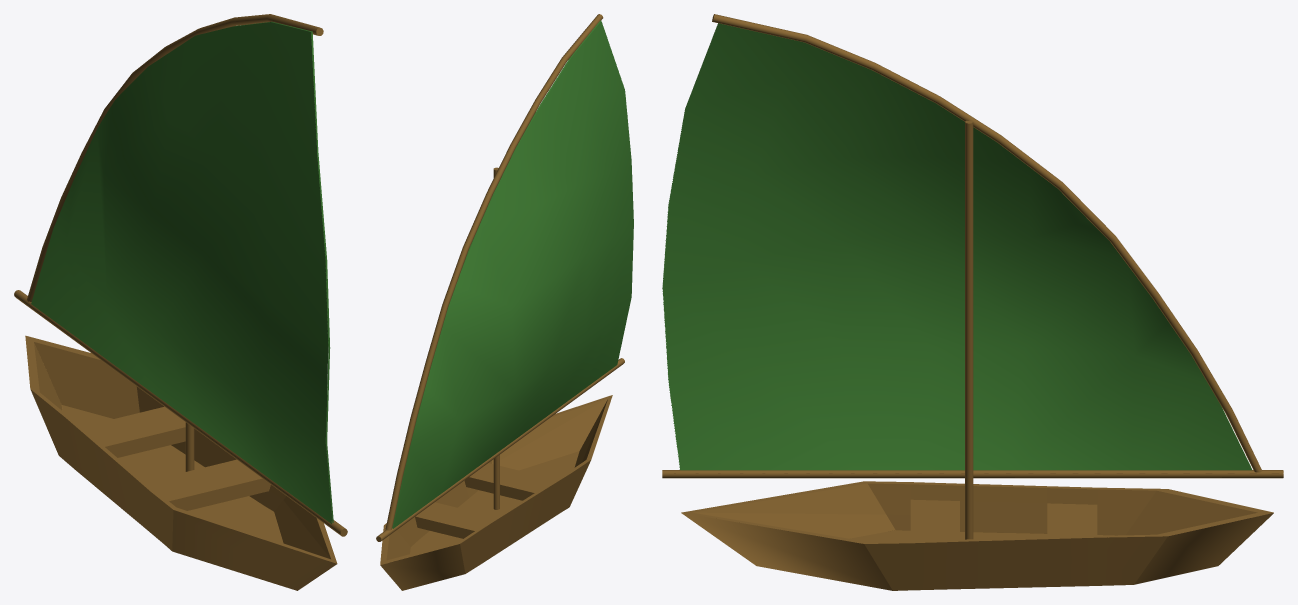
File: Model Textured_Scout.fbx
The picture shows the model from 3 angles, left to right: view 1: azimuth 30°, elevation 25°; view 2: azimuth 150°, elevation 25°; view 3: azimuth 270°, elevation 25°; orthographic projection. The views are drawn at different scales.
Visible parts, largest first — view 1: Scout 003, Scout Unit; view 2: Scout 003, Scout Unit; view 3: Scout 003, Scout Unit.
Boxes of the visible parts, bbox=[...] form: Scout 003: bbox=[31, 21, 333, 523]; Scout Unit: bbox=[14, 14, 347, 590]; Scout 003: bbox=[392, 20, 633, 528]; Scout Unit: bbox=[376, 14, 624, 590]; Scout 003: bbox=[662, 23, 1252, 470]; Scout Unit: bbox=[662, 14, 1283, 590].
Bounding box in the file's own units: 28.29 × 116 × 118.
2 materials, 2 textured.
